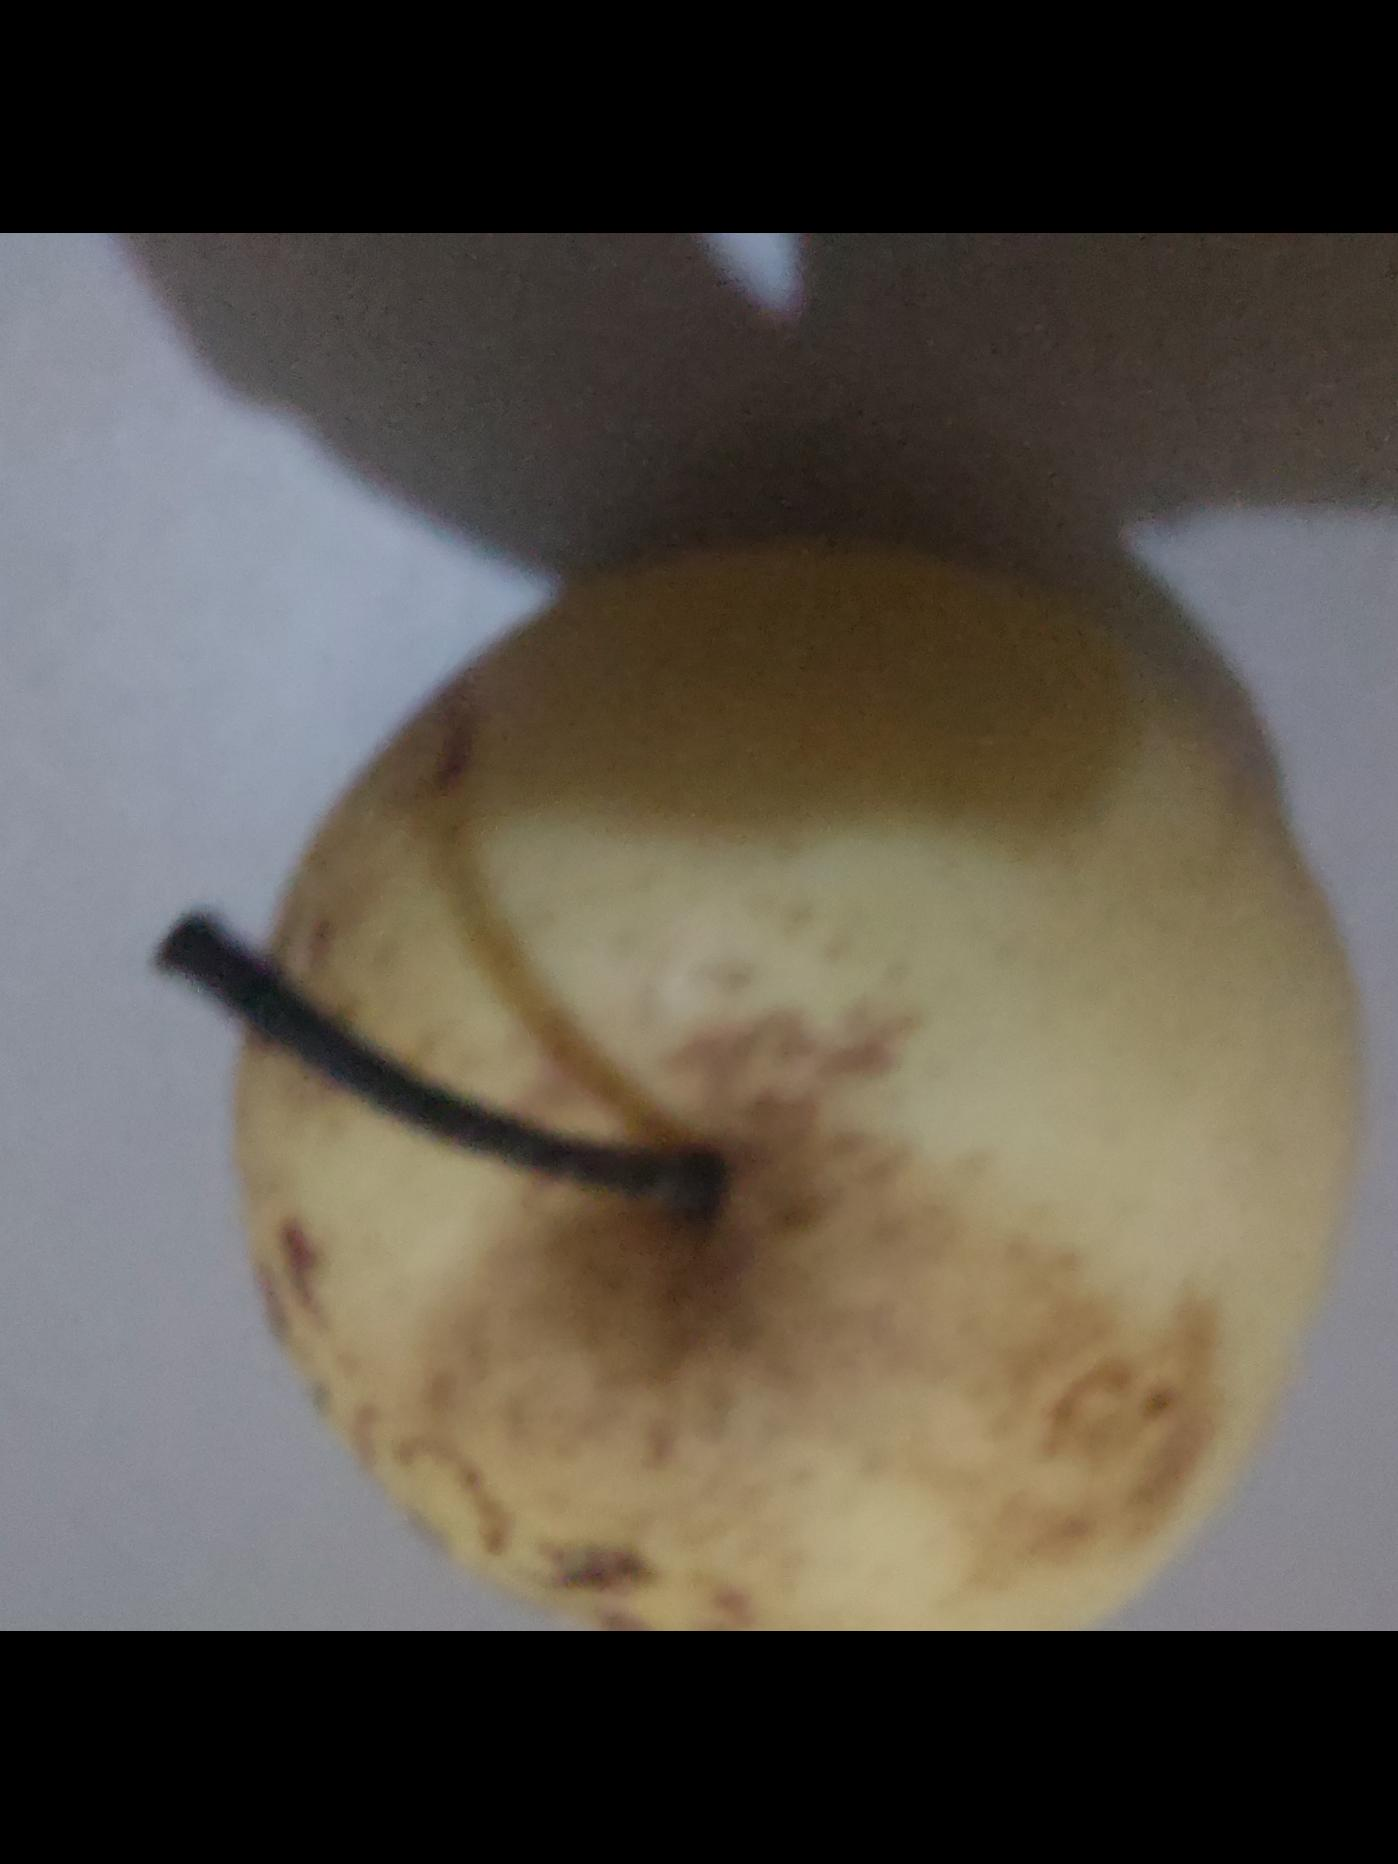Bad Pear: (229, 517, 1351, 1631)
